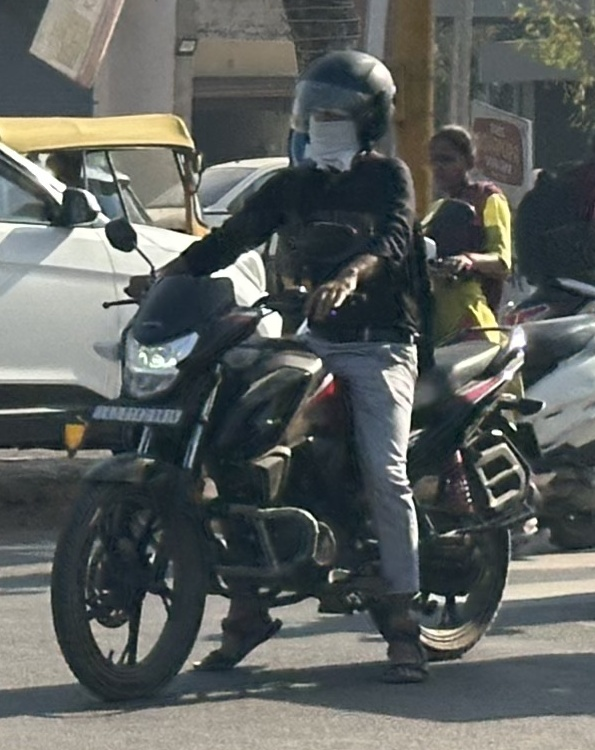BikeWithRider: (38, 40, 553, 710), (392, 86, 595, 528)
Helmet: (274, 40, 408, 177)
NoHelmet: (416, 108, 490, 205)
